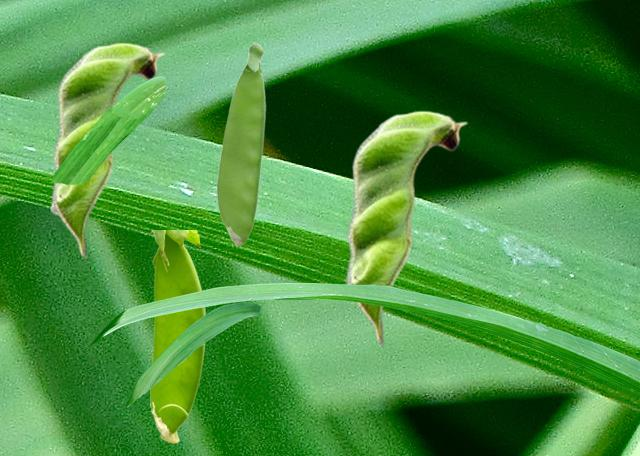pea: (343, 110, 467, 345), (49, 42, 164, 258), (150, 230, 204, 442), (216, 42, 265, 245)
